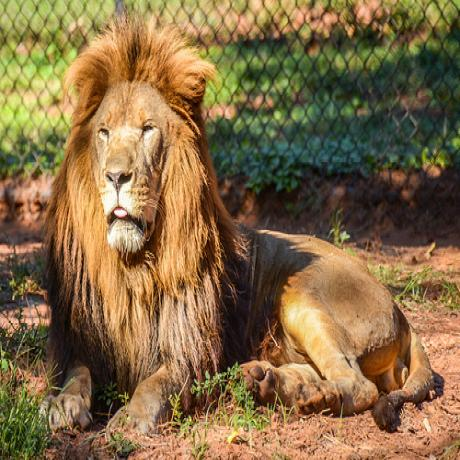Lion: (36, 22, 435, 434)
